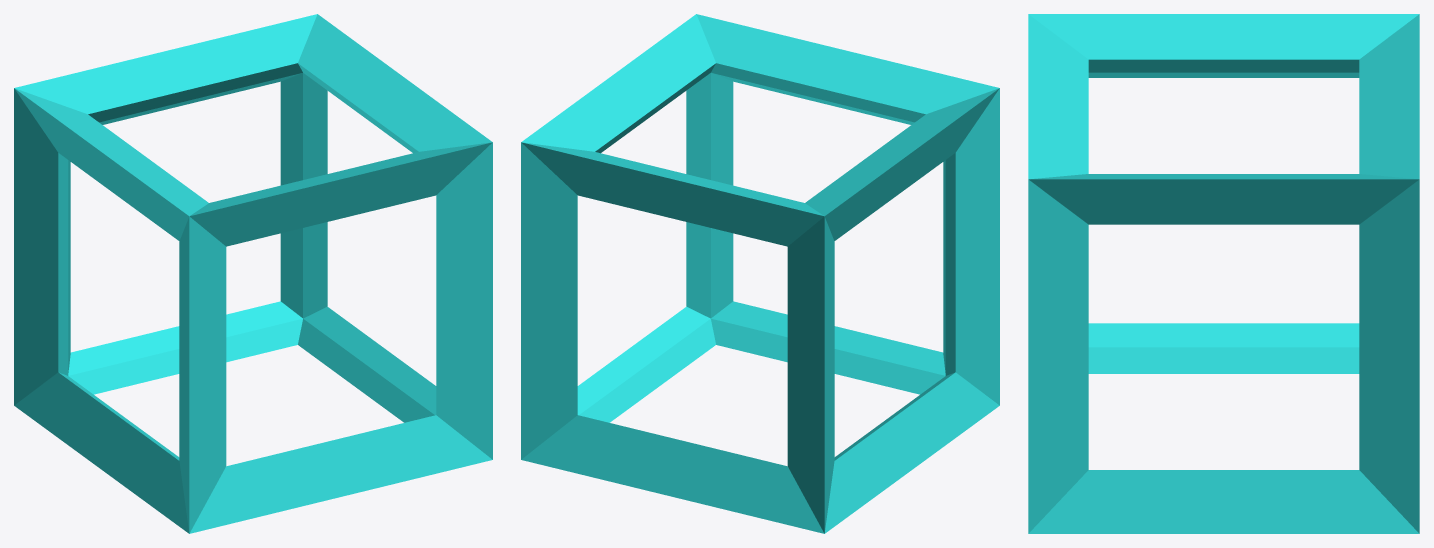
File: cubew.gltf
3 renders of one model, left to right at view 1: azimuth 30°, elevation 25°; view 2: azimuth 150°, elevation 25°; view 3: azimuth 270°, elevation 25°, orthographic. The views are drawn at different scales.
Parts seen in each view (by area): view 1: Cube; view 2: Cube; view 3: Cube.
Part boxes in pixels (left/top/right/bottom): Cube: left=14, top=14, right=492, bottom=533; Cube: left=521, top=14, right=999, bottom=533; Cube: left=1028, top=14, right=1419, bottom=533.
Size of the model in its own units: 169 by 169 by 169.
